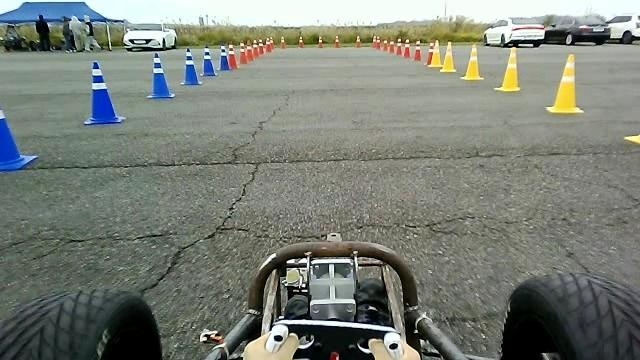blue cone: (84, 61, 126, 125), (0, 108, 38, 171), (146, 52, 175, 98), (179, 48, 202, 86), (199, 44, 217, 76), (218, 44, 231, 70)
yellow cone: (543, 54, 582, 114), (493, 46, 521, 90), (460, 43, 484, 80), (439, 41, 456, 72)
